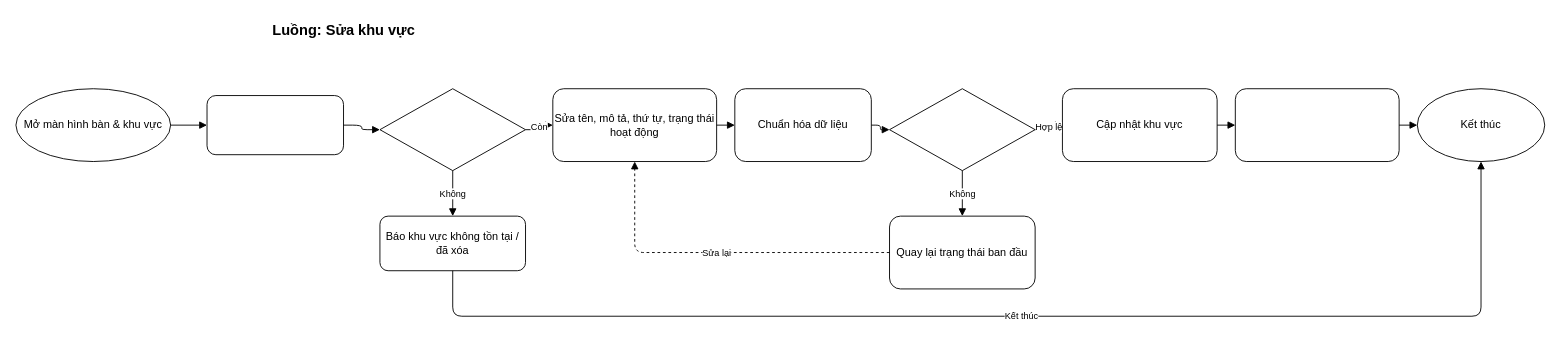
The diagram is 1561 pixels wide and 339 high, and some of its shapes have lost their labels. Each missing label, with the centre of its shape:
Chọn khu vực cần sửa: pixel 275 125
Cập nhật danh sách khu vực: pixel 1316 125
Khu vực còn tồn tại?: pixel 452 129
Tên hợp lệ?: pixel 962 129
